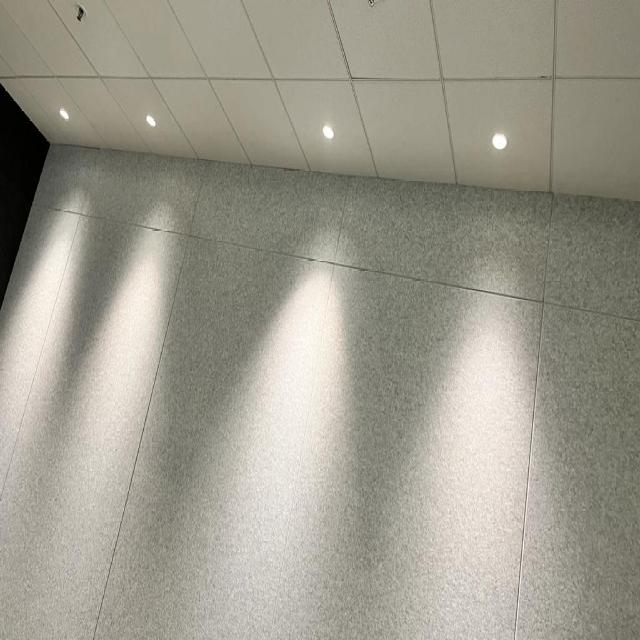Light-Opened: (489, 126, 509, 154), (320, 118, 338, 146), (143, 106, 158, 130), (53, 104, 70, 123)
